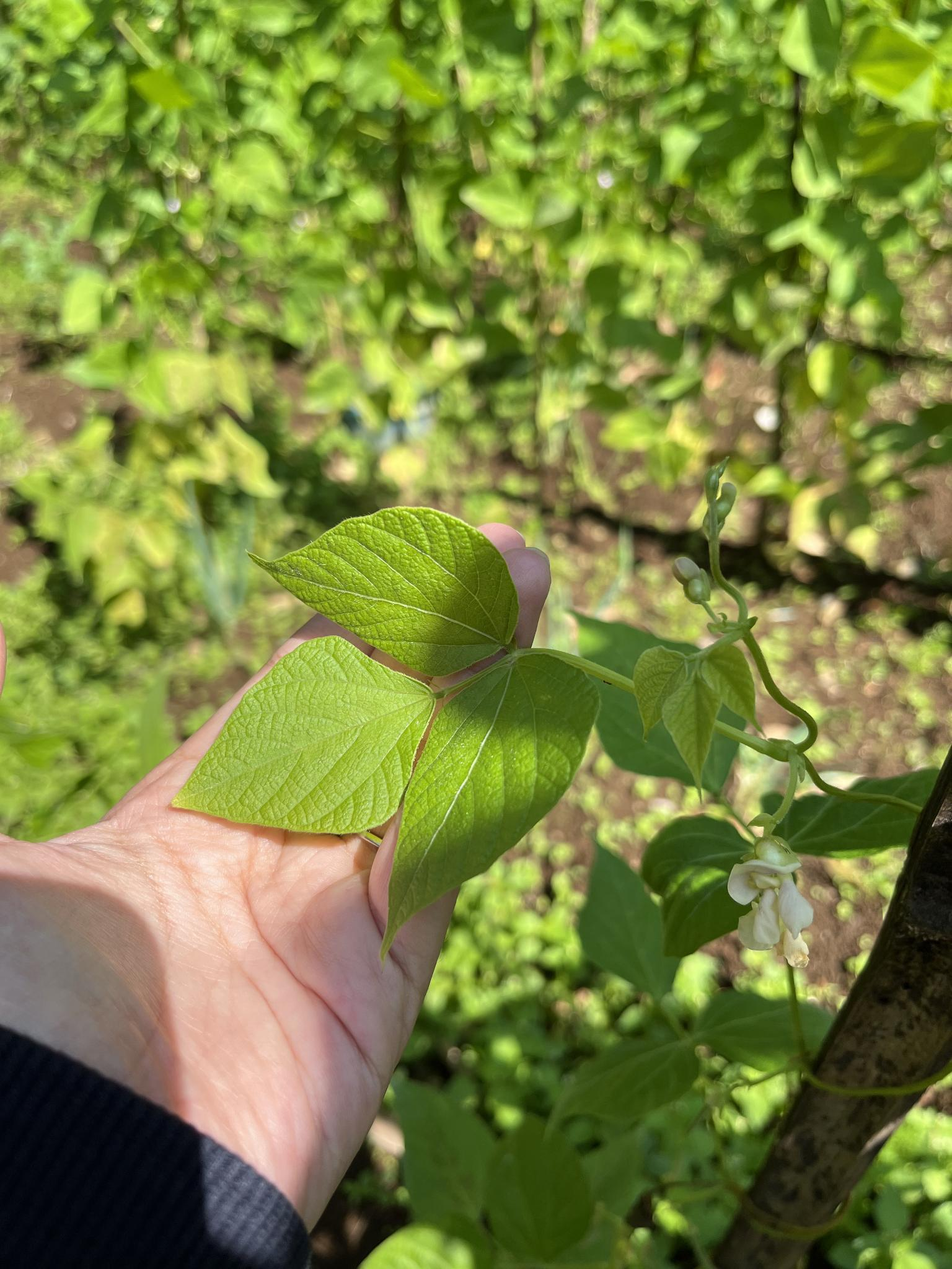sehat: (175, 627, 444, 839)
